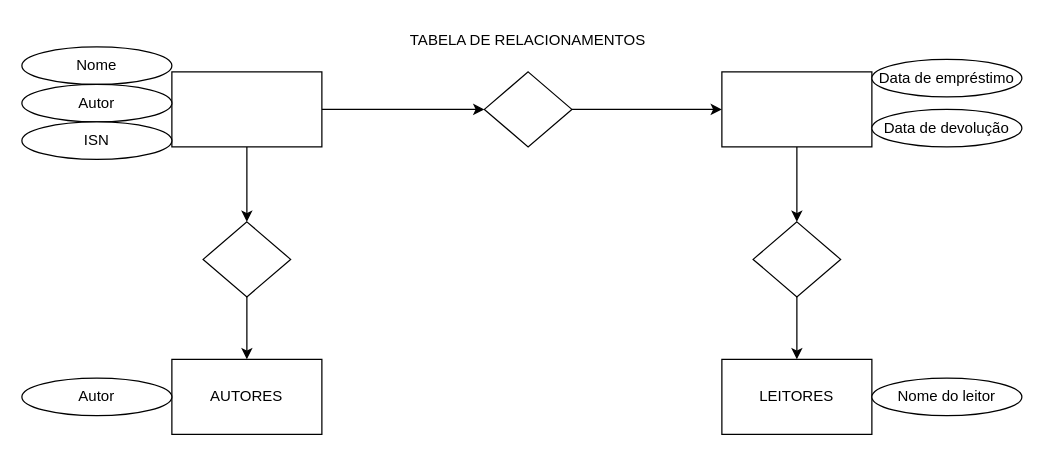
The diagram is 1044 pixels wide and 456 high, and some of its shapes have lost their labels. Each missing label, with the centre of its shape:
EMPRÉSTIMO: (796,109)
LIVROS: (246,109)
